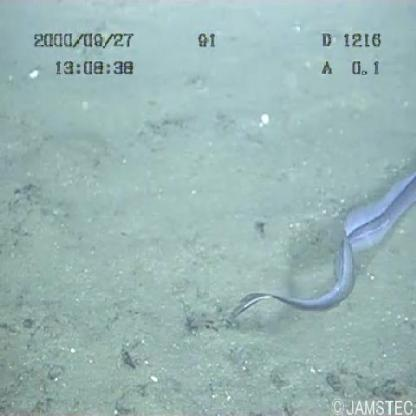Bio: (226, 160, 416, 326)
